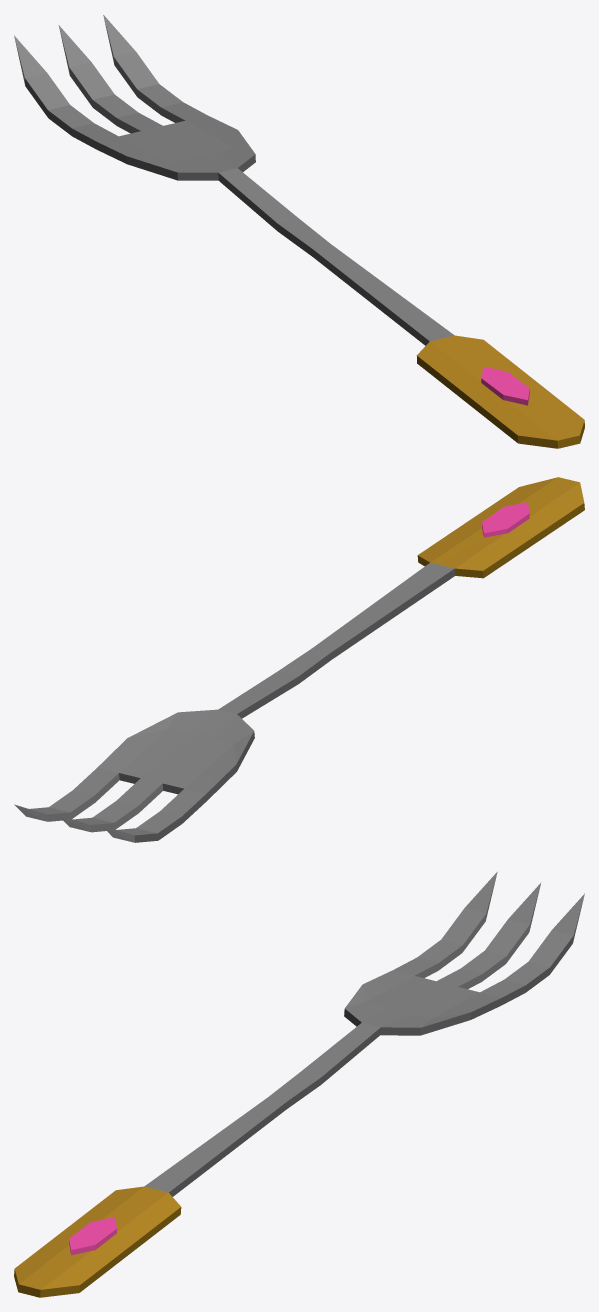
The model's file is Fork_01.glb.
The picture shows the model from 3 angles, top to bottom: view 1: azimuth 30°, elevation 25°; view 2: azimuth 150°, elevation 25°; view 3: azimuth 330°, elevation 25°; orthographic projection.
Visible parts, largest first — view 1: Fork_01; view 2: Fork_01; view 3: Fork_01.
Boxes of the visible parts, x1,y1,x2,y2 form: Fork_01: (14, 15, 584, 448); Fork_01: (14, 477, 584, 842); Fork_01: (14, 871, 584, 1297).
Size of what is drawn, in the model's own units: 0.0496 by 0.0202 by 0.3948.
Materials: 1 (1 with a texture image).
